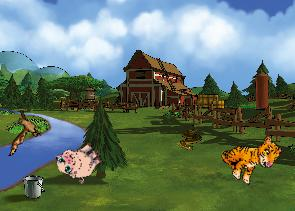eagle: (5, 108, 43, 156)
pig: (51, 133, 107, 188)
tiger: (216, 121, 285, 191)
